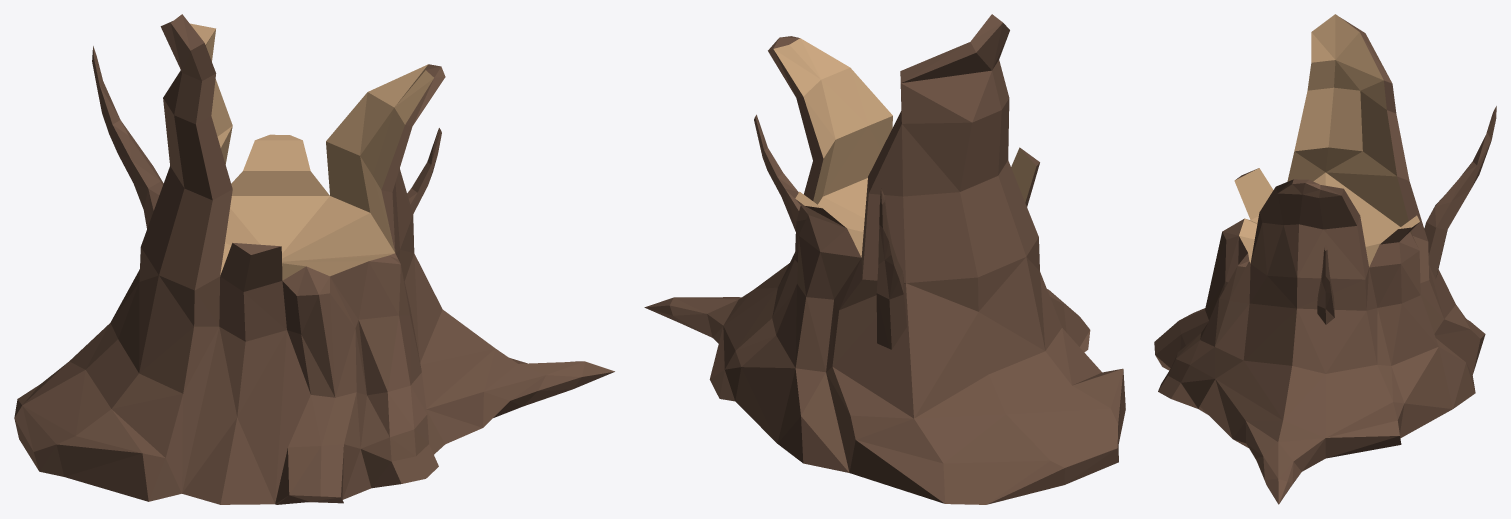
The model's file is _stump_2.fbx.
The picture shows the model from 3 angles, left to right: view 1: azimuth 30°, elevation 25°; view 2: azimuth 150°, elevation 25°; view 3: azimuth 270°, elevation 25°; orthographic projection. The views are drawn at different scales.
Visible parts, largest first — view 1: stump_2; view 2: stump_2; view 3: stump_2.
Part boxes in pixels (x1,y1,x2,y2): stump_2: [14, 14, 614, 504]; stump_2: [644, 14, 1125, 504]; stump_2: [1154, 14, 1496, 504].
Bounding box in the file's own units: 240 × 183 × 168.
